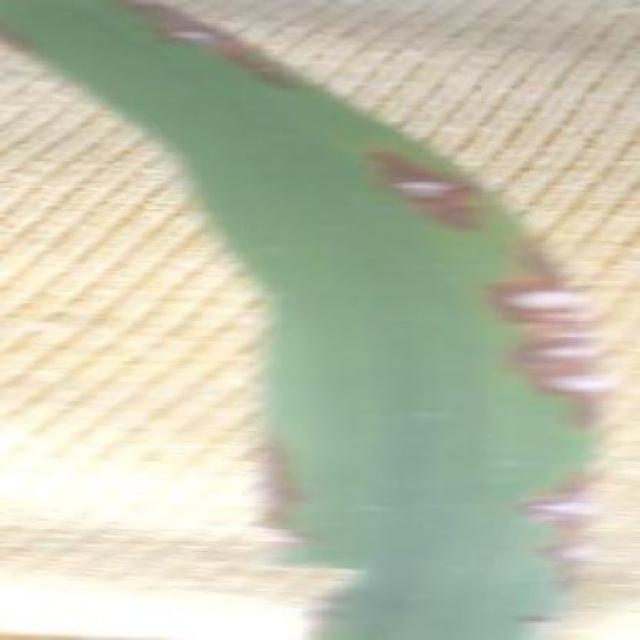Bacterial_Leaf_Blight: (88, 0, 306, 97), (370, 132, 512, 259), (501, 470, 617, 581), (462, 260, 610, 326), (498, 352, 633, 413), (243, 430, 306, 544), (489, 325, 625, 373)
